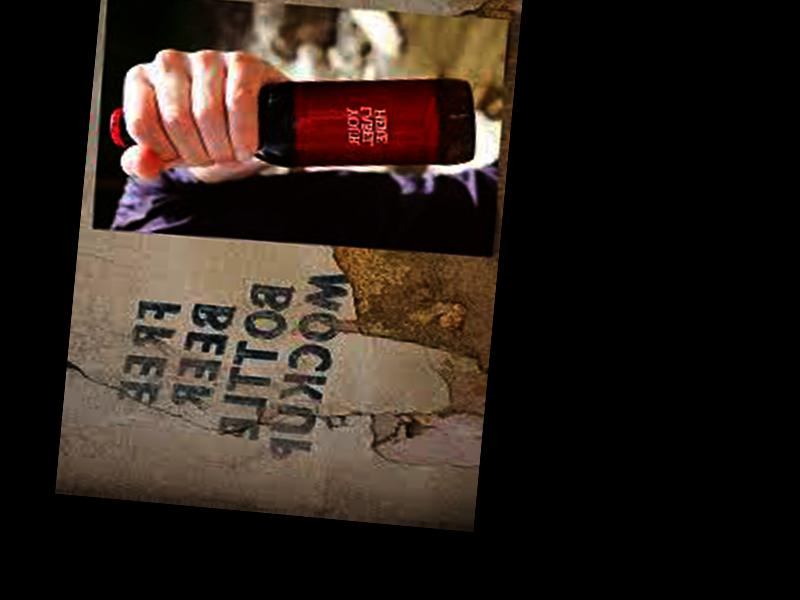Beer: (108, 47, 480, 180)
